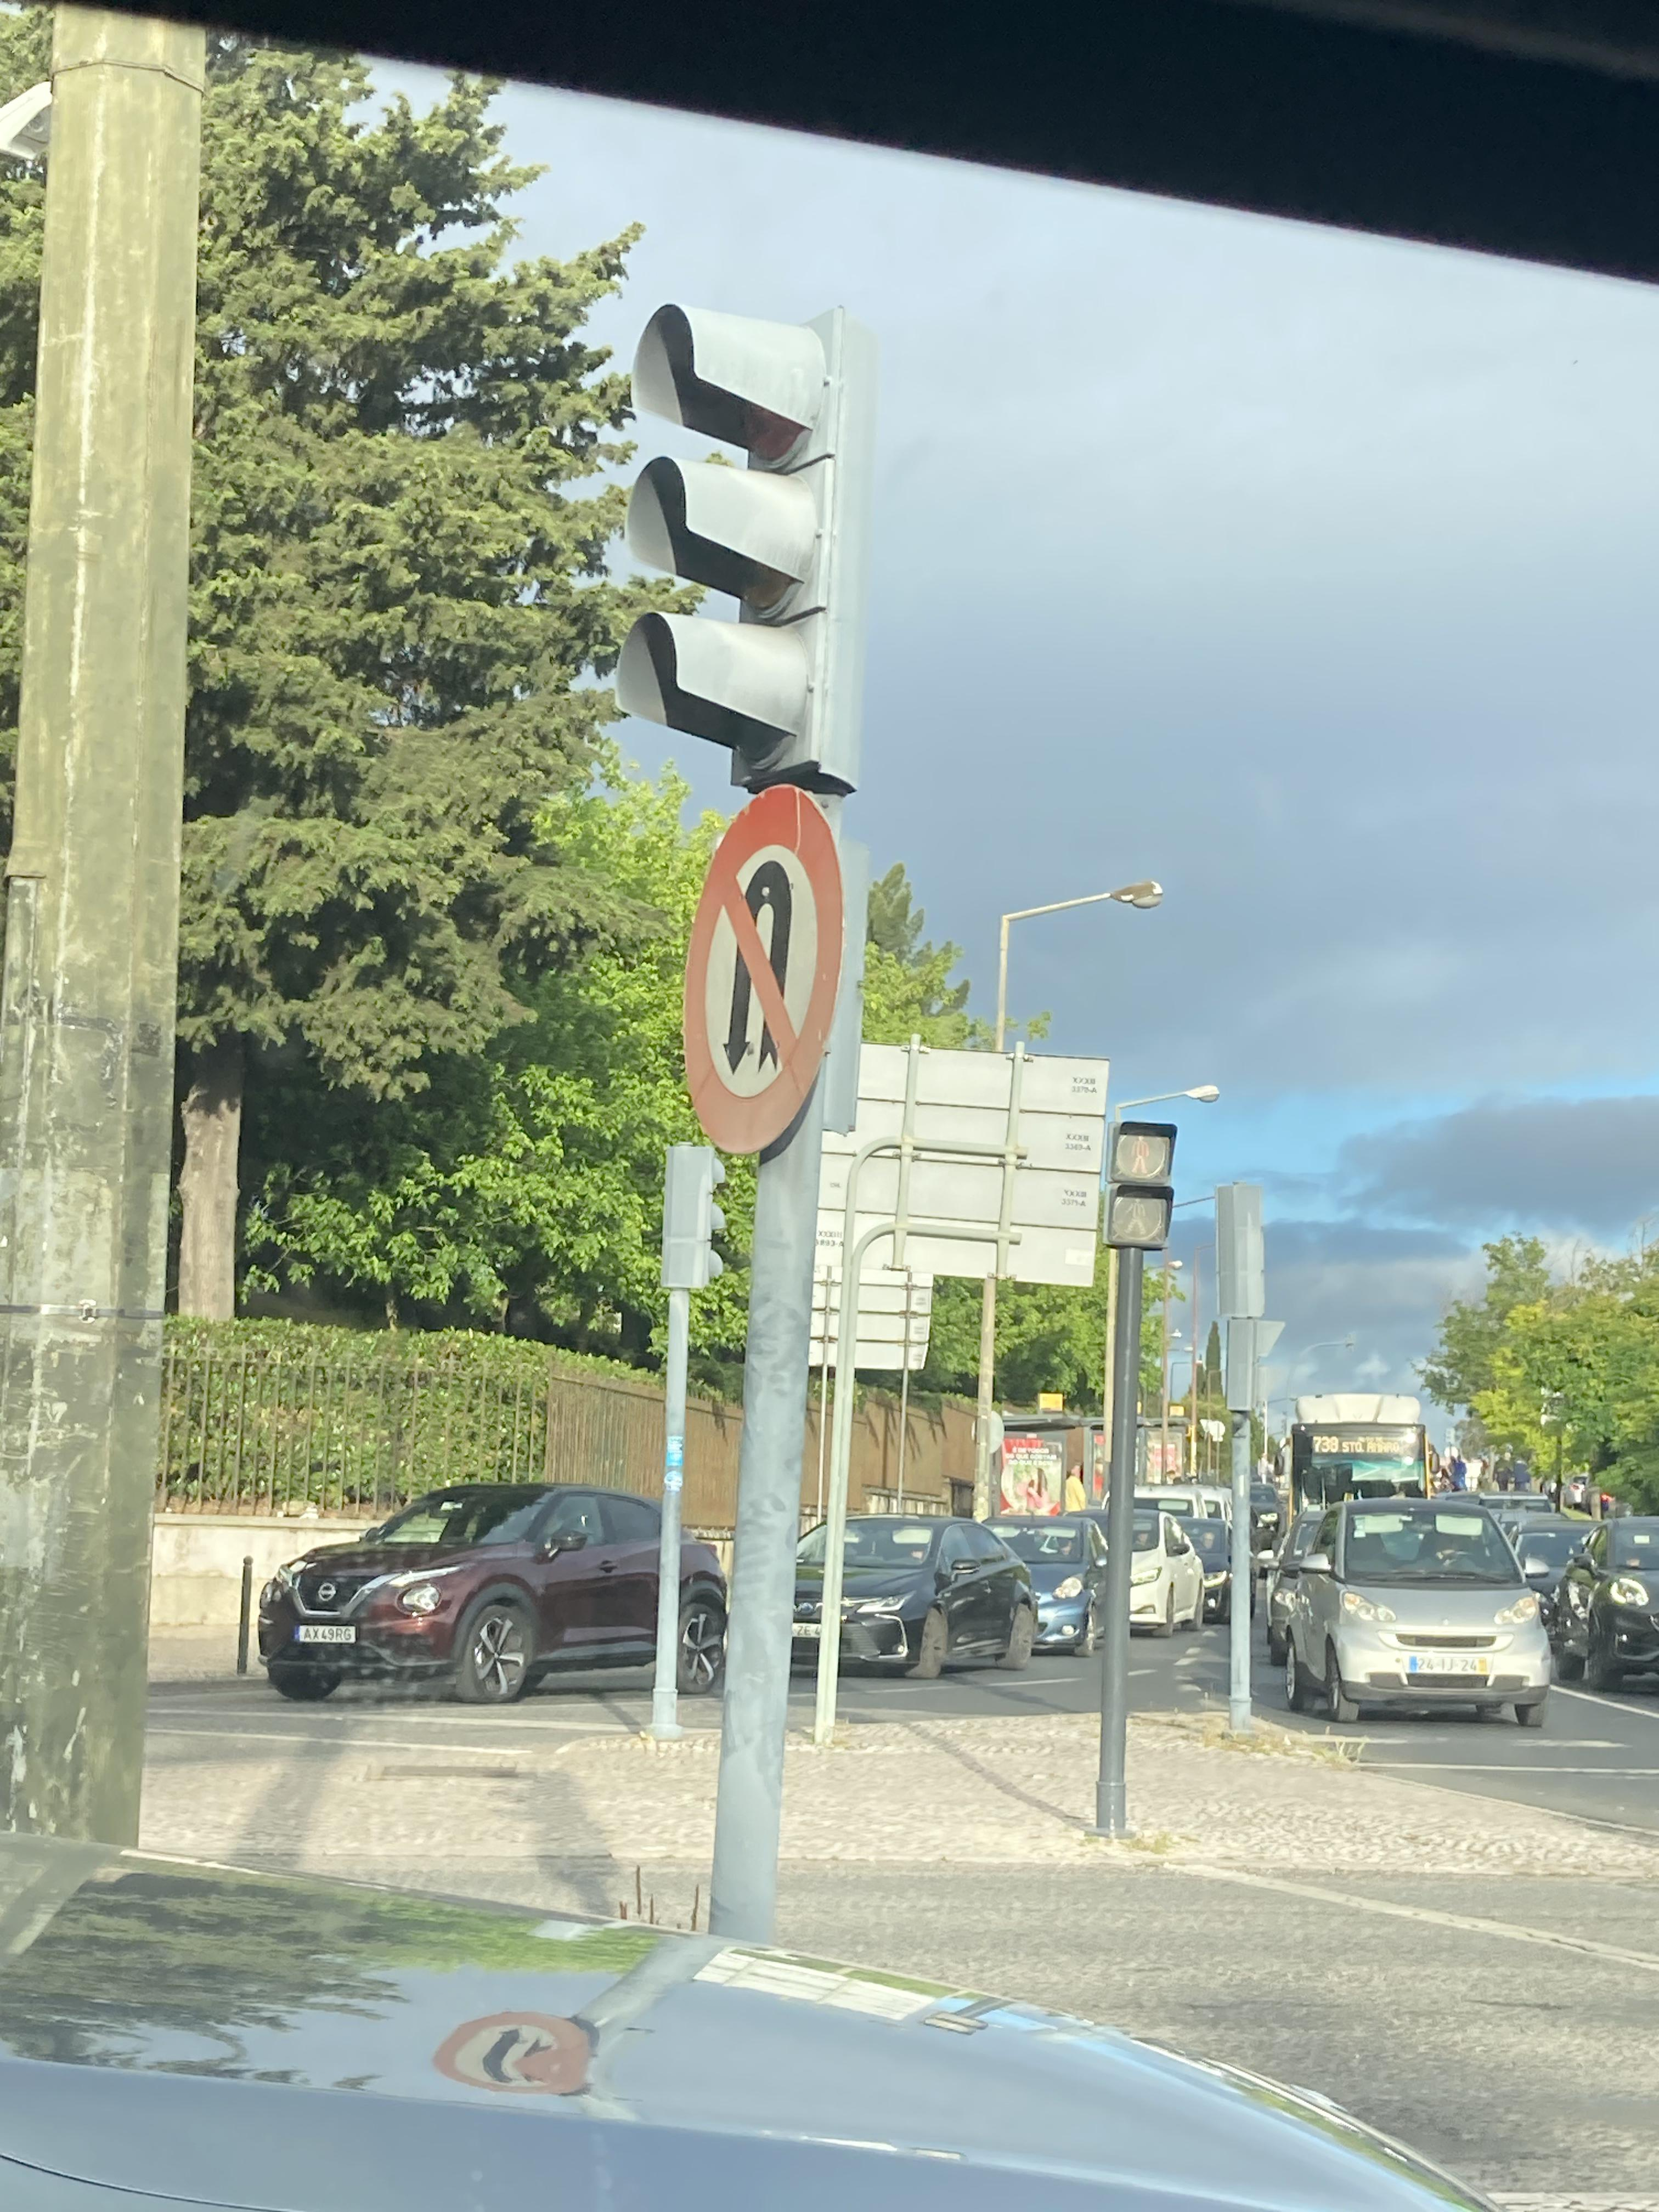proibicao de inversao do sentido de marcha: (653, 791, 856, 1169)
